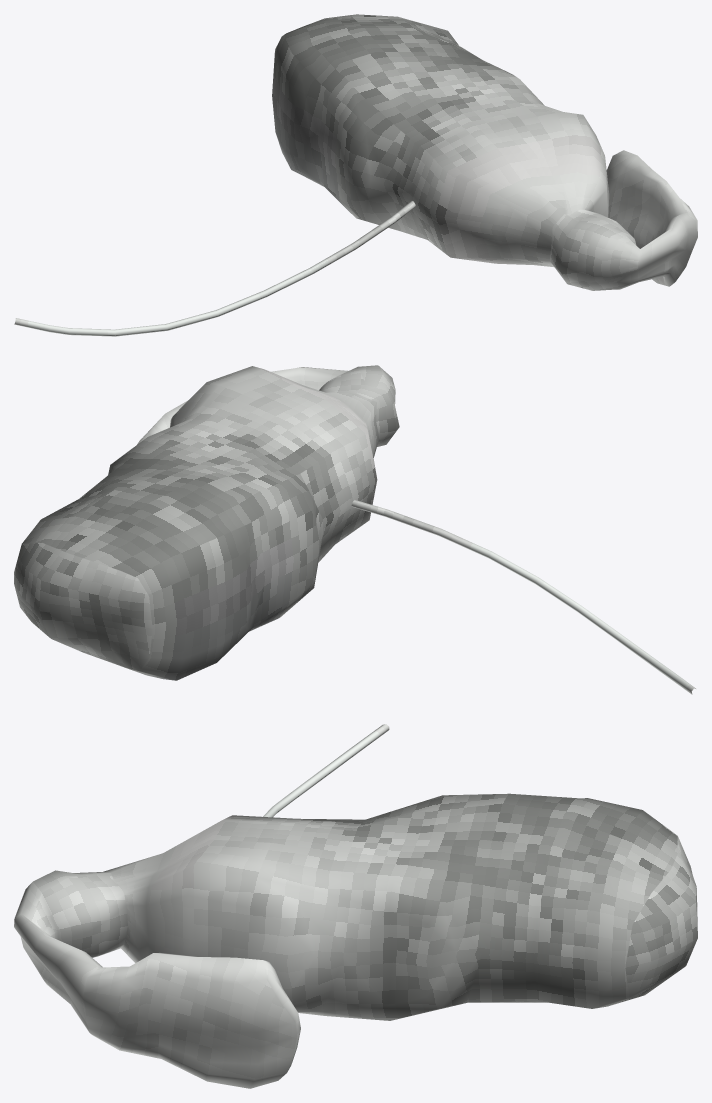
The model's file is weapon_stickybomb_obj.glb.
3 views of the same model, one above another, from view 1: azimuth 30°, elevation 25°; view 2: azimuth 150°, elevation 25°; view 3: azimuth 270°, elevation 25° (orthographic). The views are drawn at different scales.
Bounding box in the file's own units: 14.14 × 4.06 × 12.39.
1 material, 1 textured.
